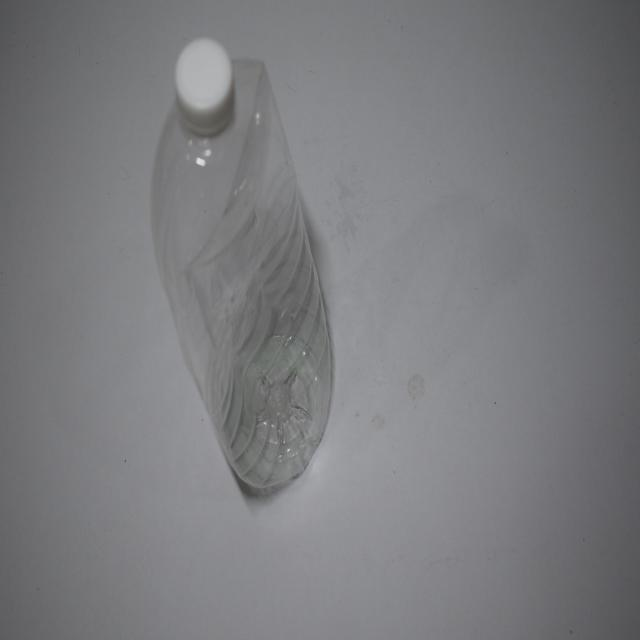bottle: (148, 34, 335, 496)
